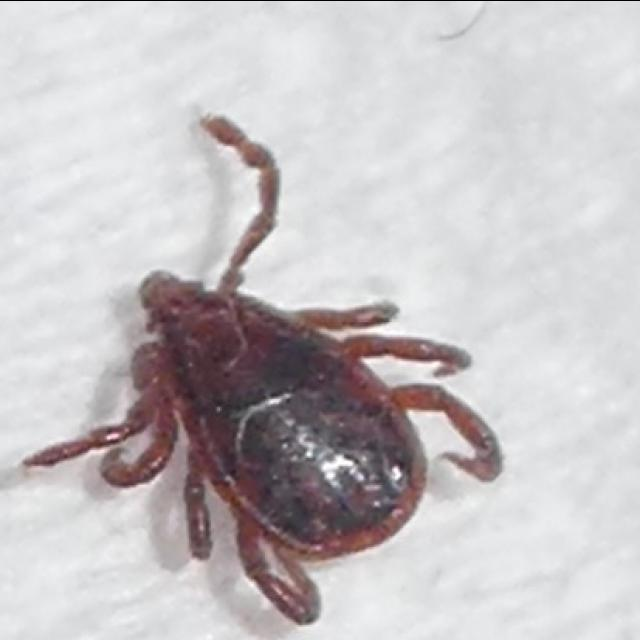Rhipicephalus Sanguineus-M: (23, 111, 502, 624)
